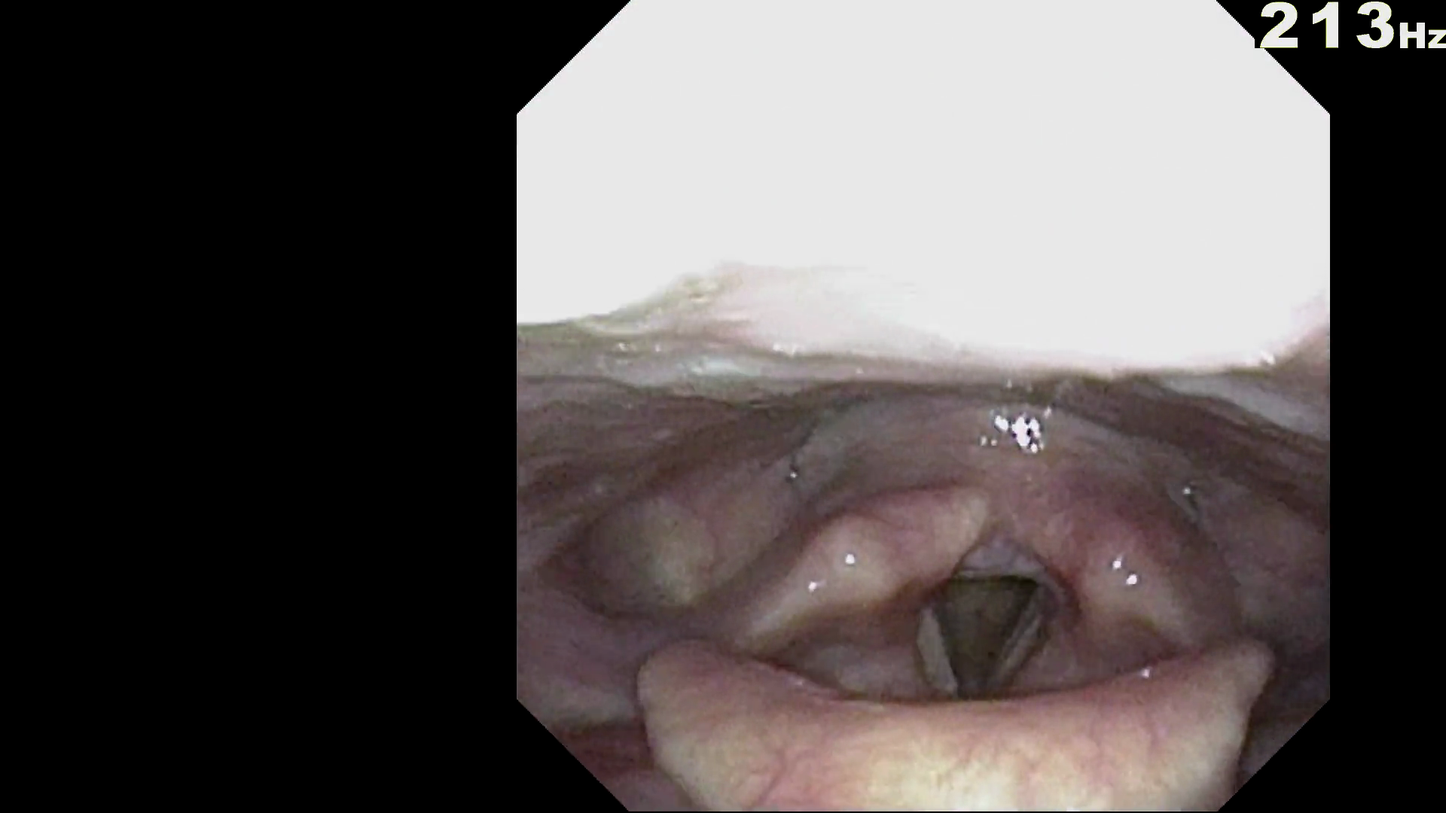epiglottis: (679, 658, 1221, 798)
trachea: (918, 559, 1047, 713)
